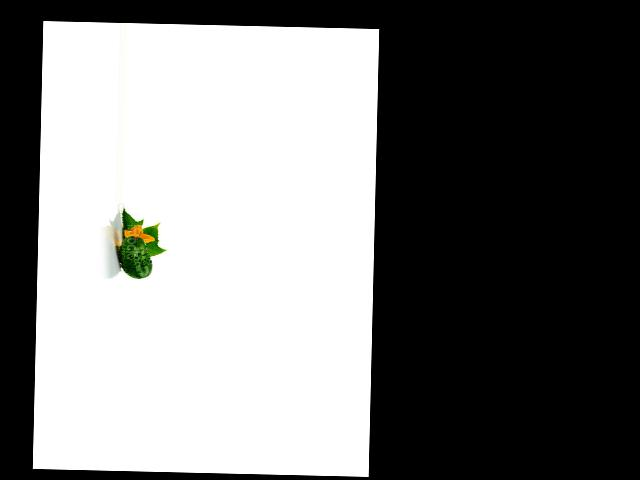cucumber: (118, 236, 152, 279)
